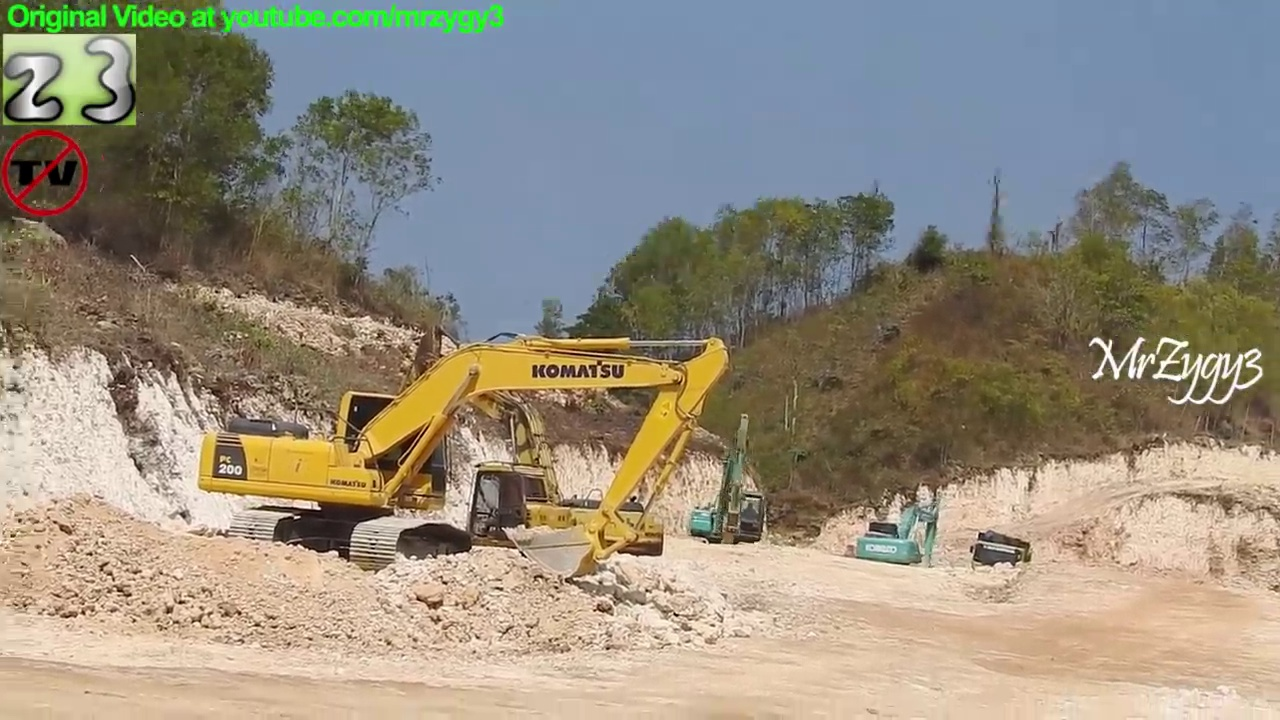excavator: (193, 324, 737, 593), (361, 320, 671, 583), (685, 409, 775, 561), (853, 496, 943, 585)
truck: (965, 524, 1036, 595)
